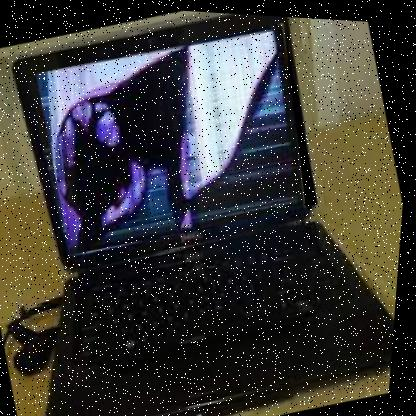crack: (26, 7, 332, 266)
